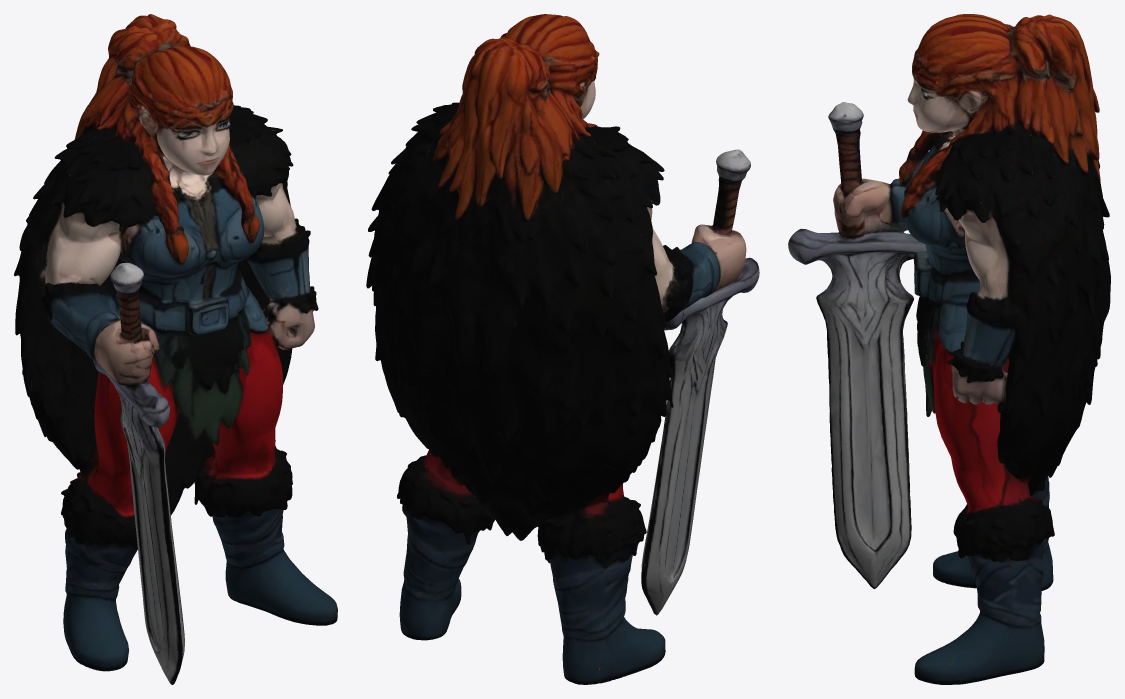
Rendered from barbarian-princess-optimized.glb.
3 views of the same model, side by side, from view 1: azimuth 30°, elevation 25°; view 2: azimuth 150°, elevation 25°; view 3: azimuth 270°, elevation 25° (orthographic). The views are drawn at different scales.
Visible parts, largest first — view 1: world; view 2: world; view 3: world.
Part boxes in pixels (x1,y1,x2,y2): world: (14, 14, 337, 684); world: (366, 14, 759, 684); world: (788, 14, 1110, 684).
Bounding box in the file's own units: 0.5056 × 0.9999 × 0.4855.
Materials: 1 (1 with a texture image).
